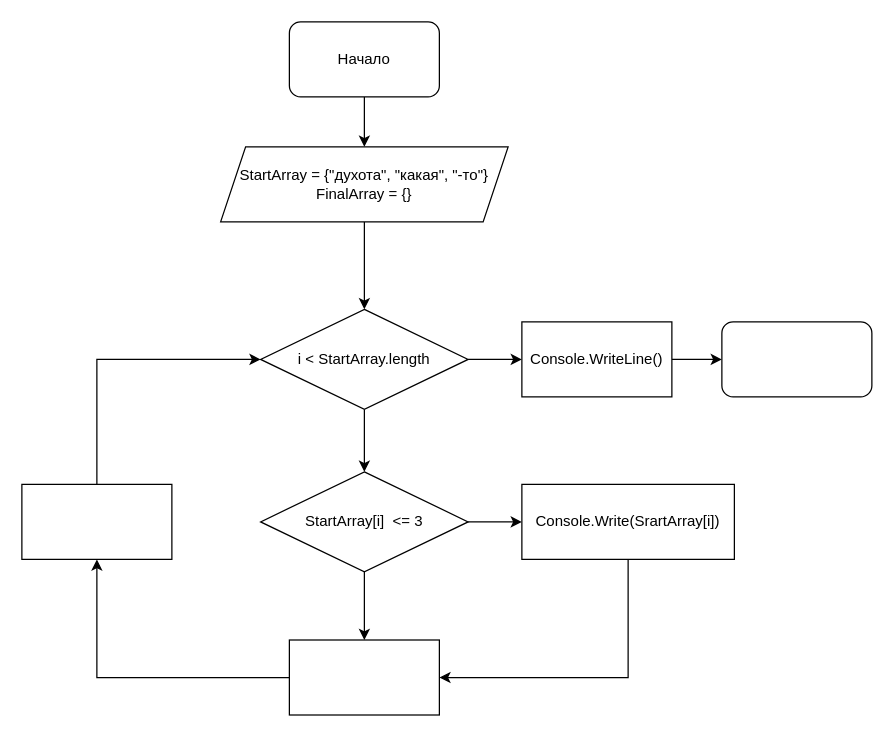
Image size: 894x738. Some labels were removed from this diagram. Here are the shapes that lost their labels. From the top down, the centre of each, then its label:
[796,359]: Конец
[96,521]: i++
[363,677]: Console.Write(" ")
